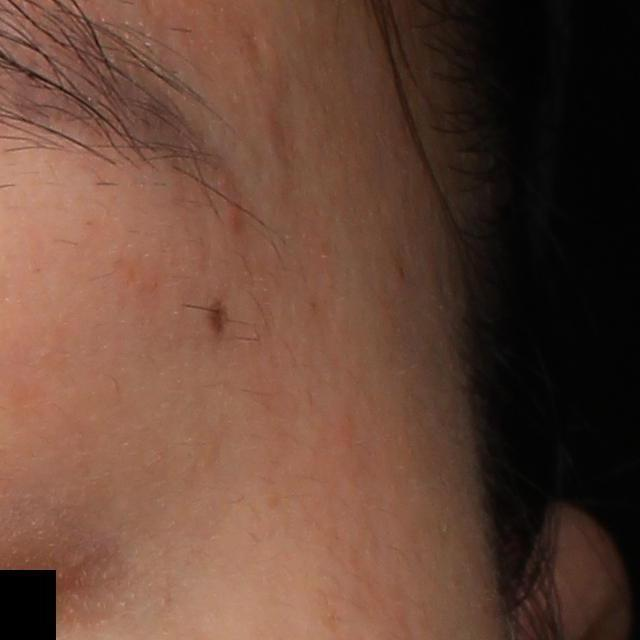nevus: (205, 298, 230, 335)
